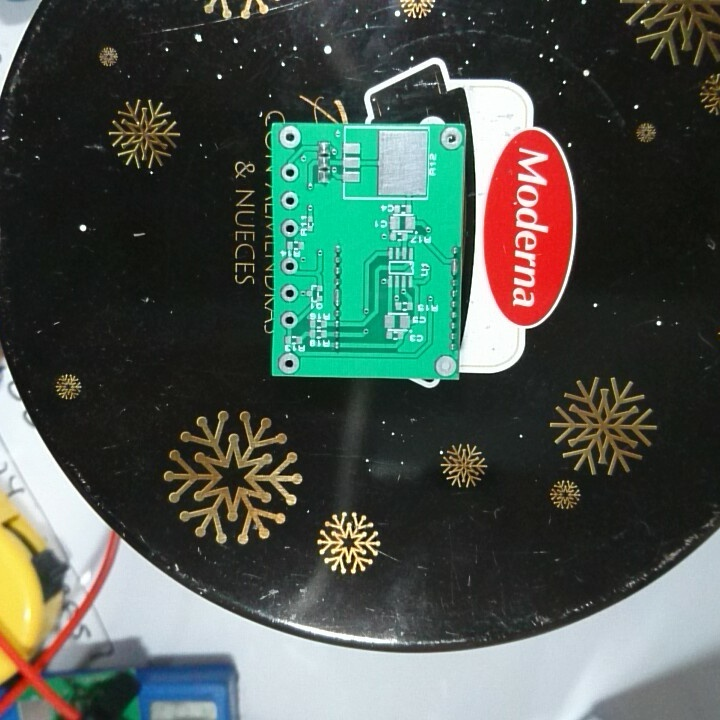F: (436, 125, 464, 153), (433, 352, 459, 378), (277, 123, 302, 150), (275, 351, 301, 374), (279, 161, 301, 185), (279, 218, 299, 240), (279, 255, 299, 277), (279, 190, 299, 210), (279, 311, 299, 331), (279, 282, 297, 303)
P: (332, 286, 345, 310), (448, 255, 461, 278)
